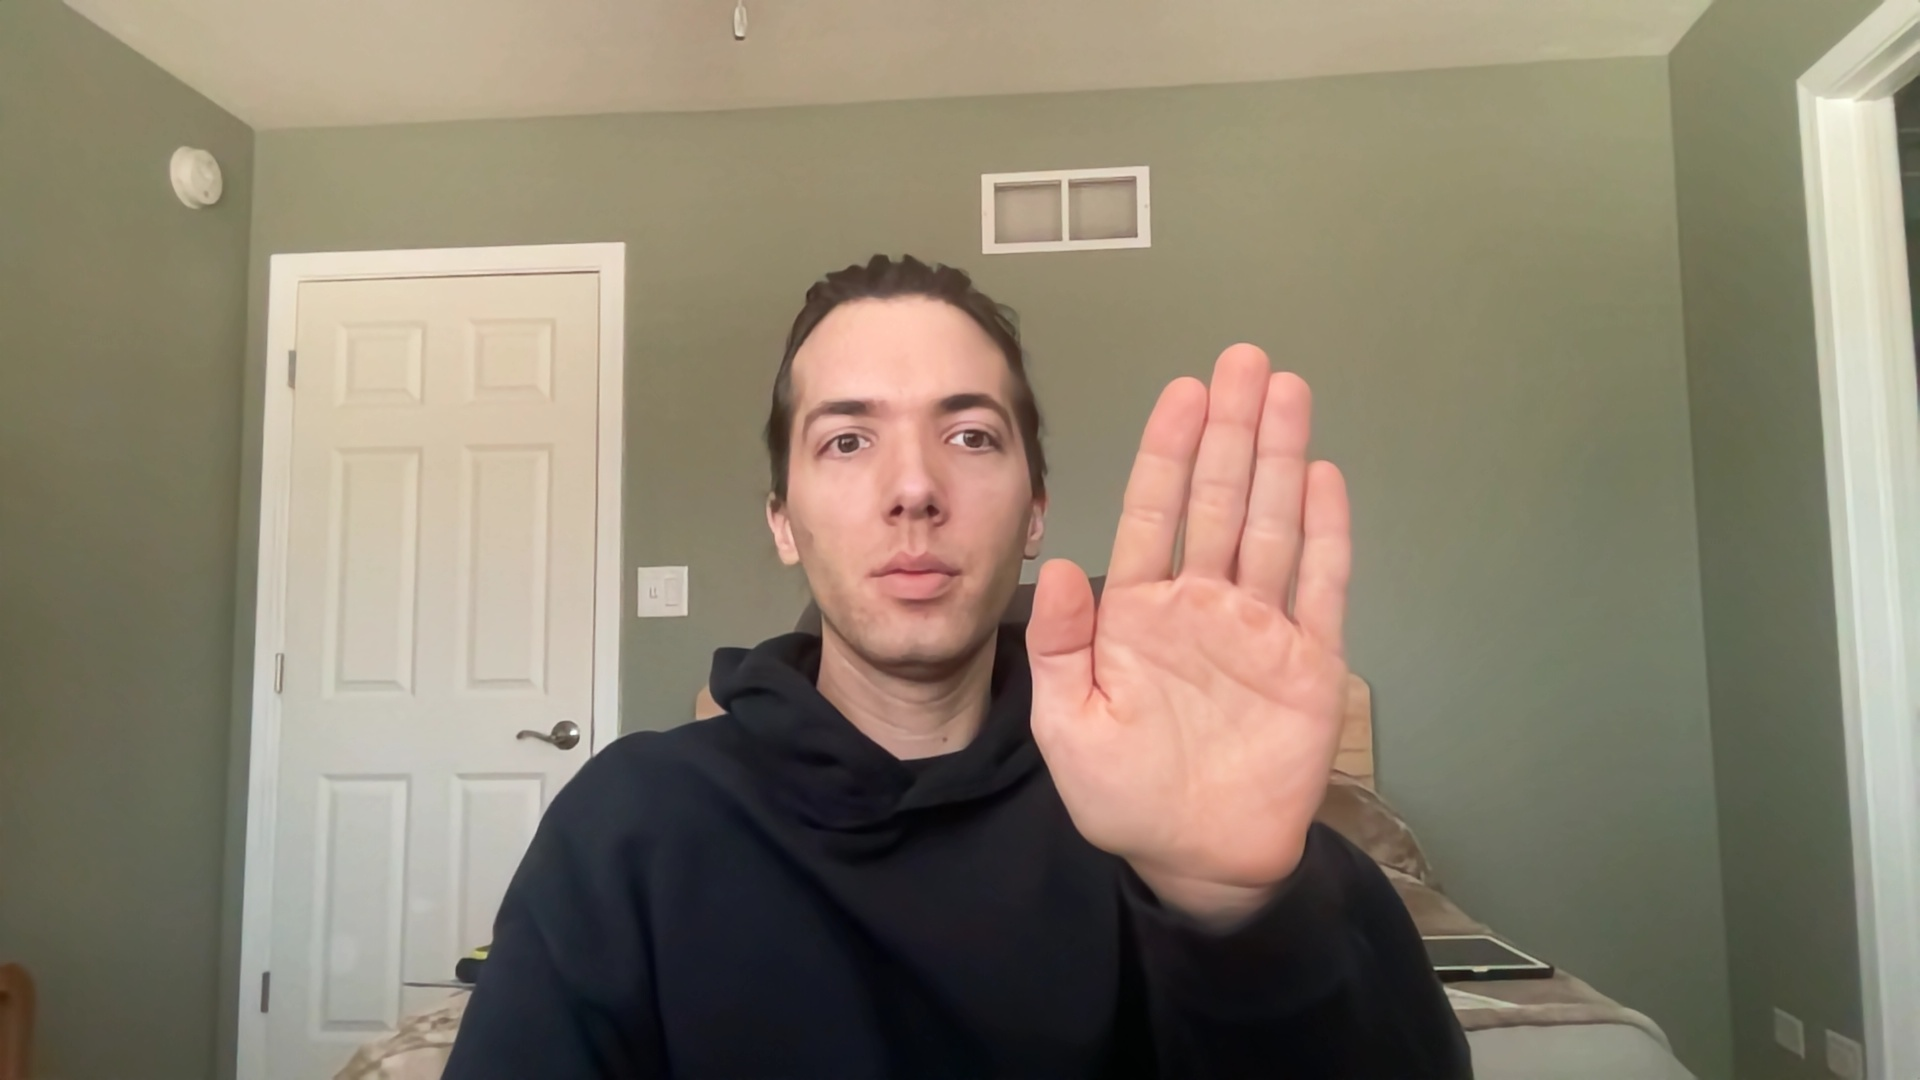Hello: (1013, 331, 1373, 924)
